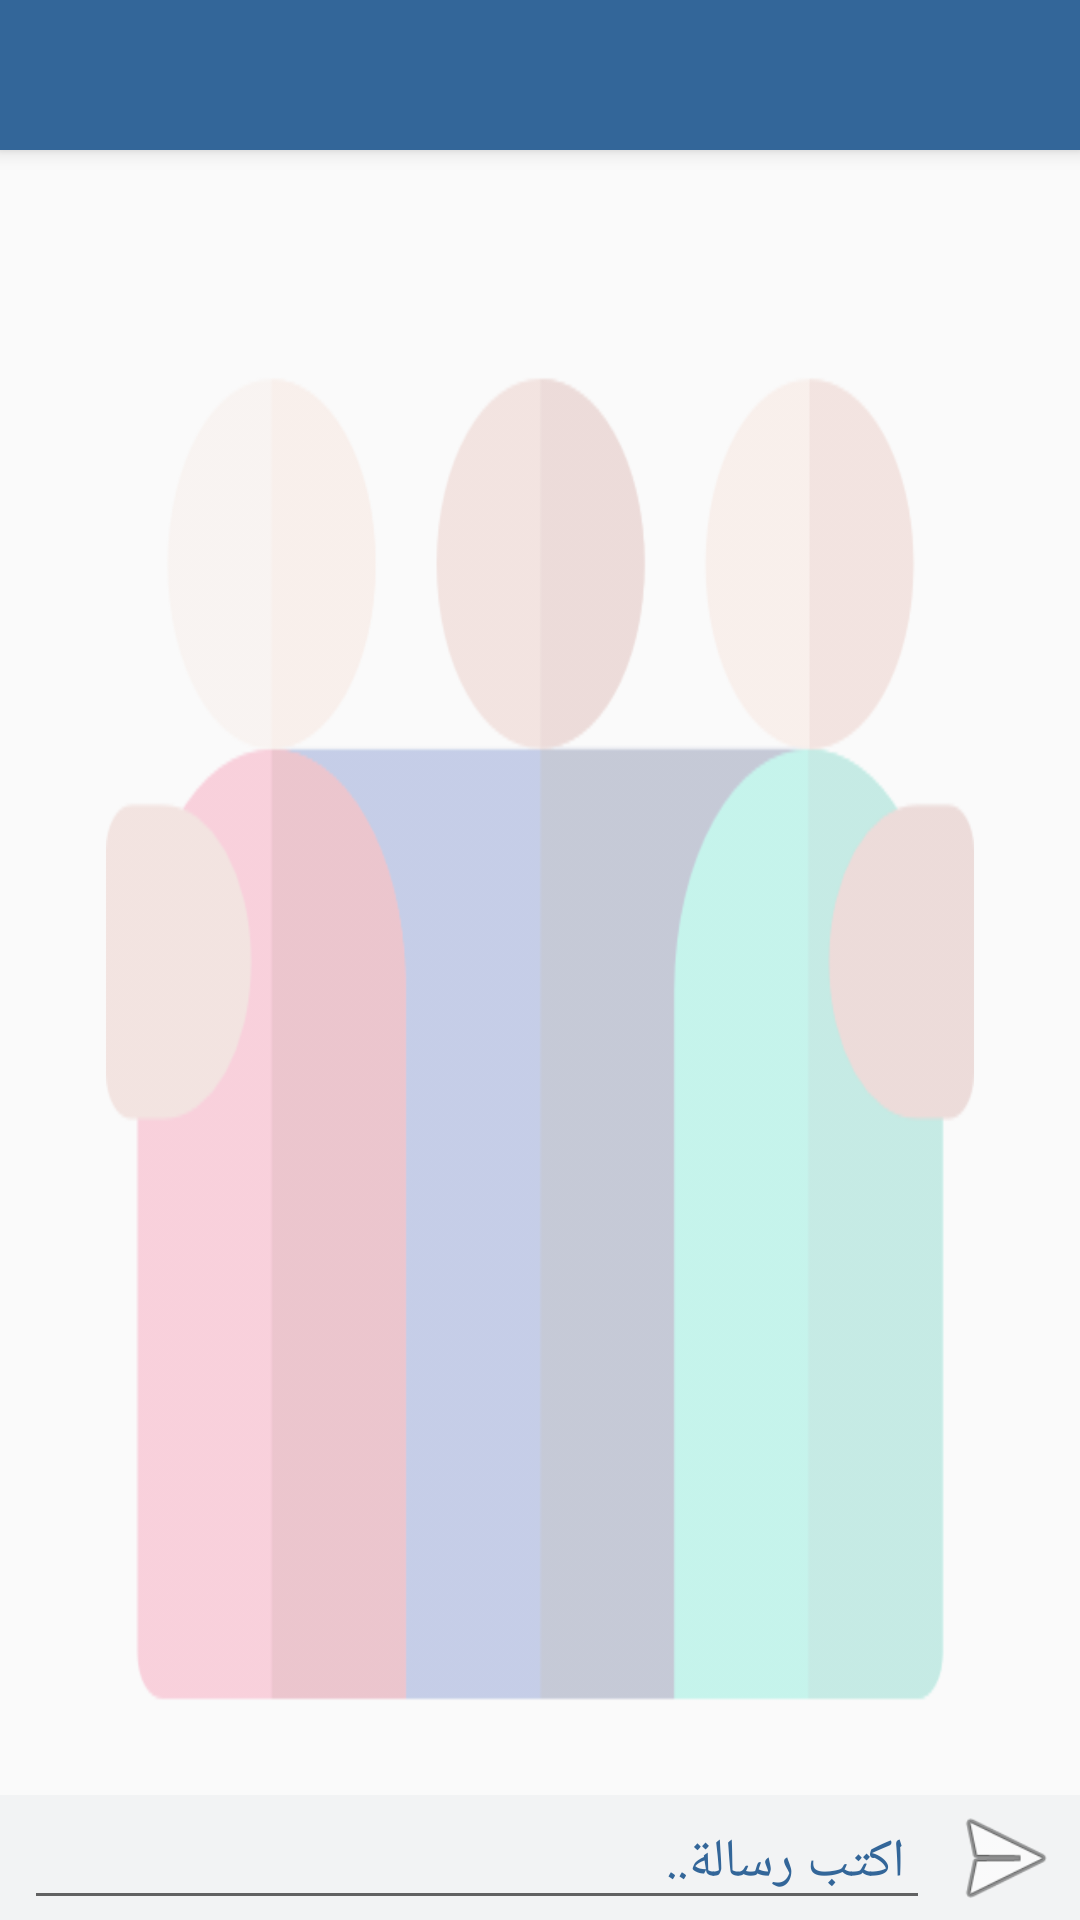

Locate icon controls on the screen. Image size 1080 x 1920, boxes as [x1, y1, x2, y2].
send: [966, 1818, 1046, 1898]
